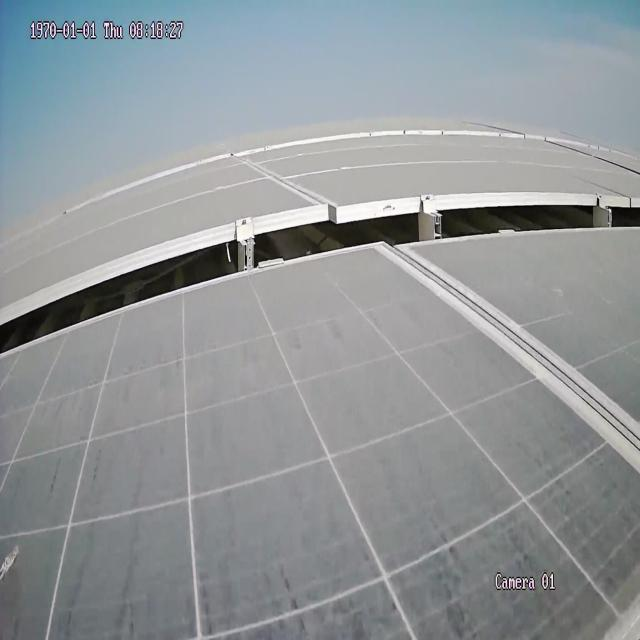interior panel: (386, 249, 639, 474)
outher panel: (2, 194, 640, 358)
